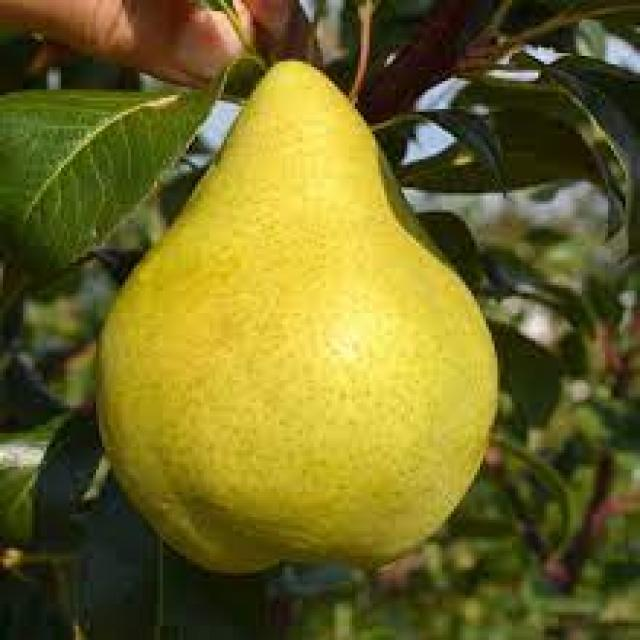pear: (93, 51, 503, 582)
